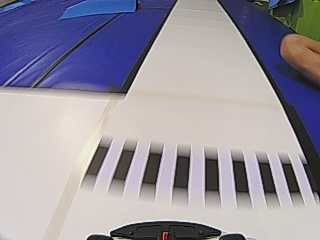CrossWalk: (82, 141, 299, 197)
